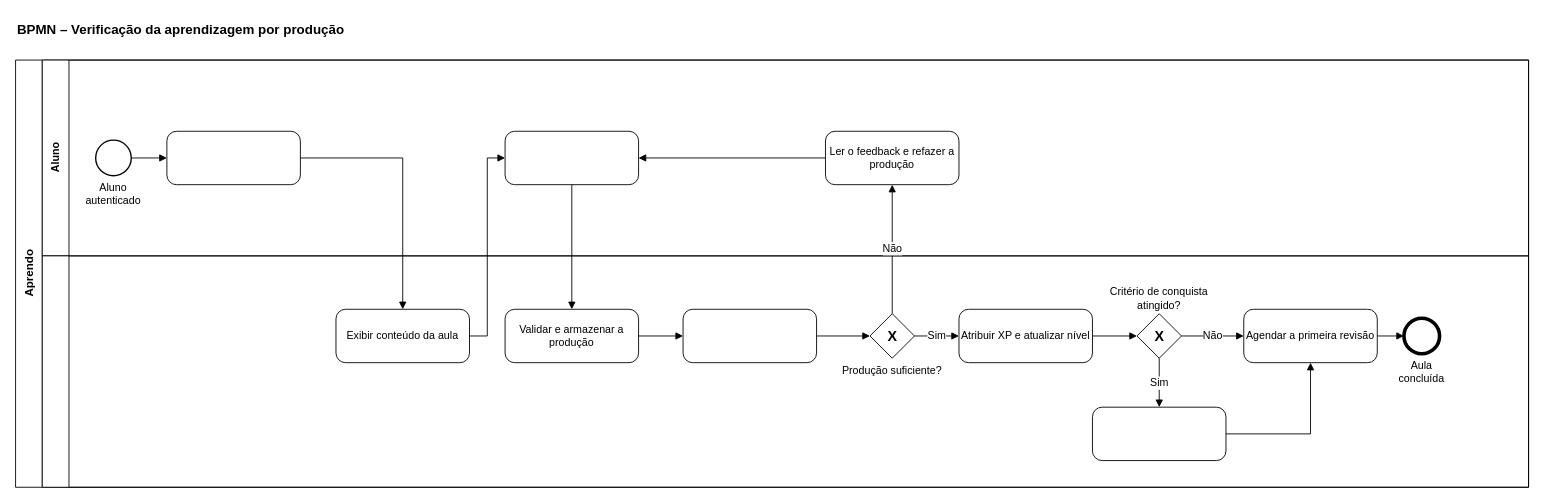
This 1544x503 diagram has some shape labels left out. The box of each missing label's shape, as (x1, y1, x2, y2) in pixels:
Avaliar produção e gerar feedback: (682, 308, 817, 363)
Conceder conquista: (1092, 406, 1226, 461)
Plataforma: (41, 255, 1529, 487)
Registrar produção (texto ou áudio): (504, 130, 639, 185)
Selecionar trilha e aula: (166, 130, 300, 185)
